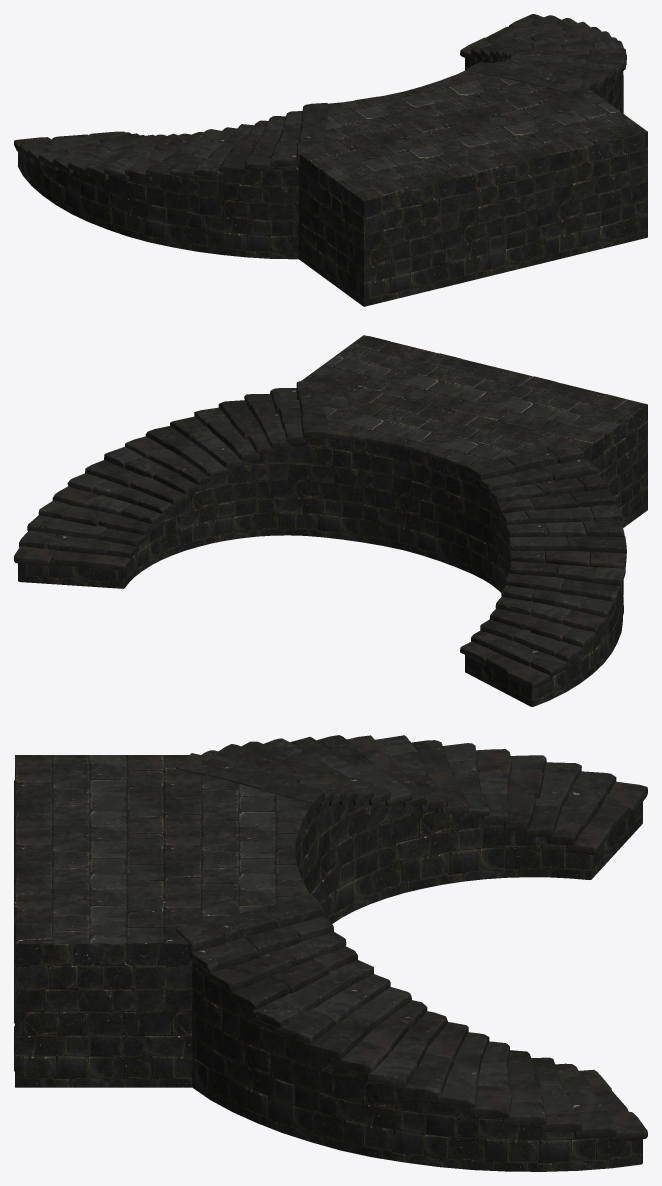
The picture shows the model from 3 angles, top to bottom: view 1: azimuth 30°, elevation 25°; view 2: azimuth 150°, elevation 25°; view 3: azimuth 270°, elevation 25°; orthographic projection. The views are drawn at different scales.
Parts seen in each view (by area): view 1: SM_DeathTemple_Steps_01_v1_LOD0; view 2: SM_DeathTemple_Steps_01_v1_LOD0; view 3: SM_DeathTemple_Steps_01_v1_LOD0.
Part boxes in pixels (box(x1,y1,x2,y2)): SM_DeathTemple_Steps_01_v1_LOD0: box(14, 14, 647, 306); SM_DeathTemple_Steps_01_v1_LOD0: box(14, 335, 647, 706); SM_DeathTemple_Steps_01_v1_LOD0: box(14, 735, 647, 1171).
Size of the model in its own units: 23.04 by 4.35 by 17.04.
Materials: 2 (2 with a texture image).
